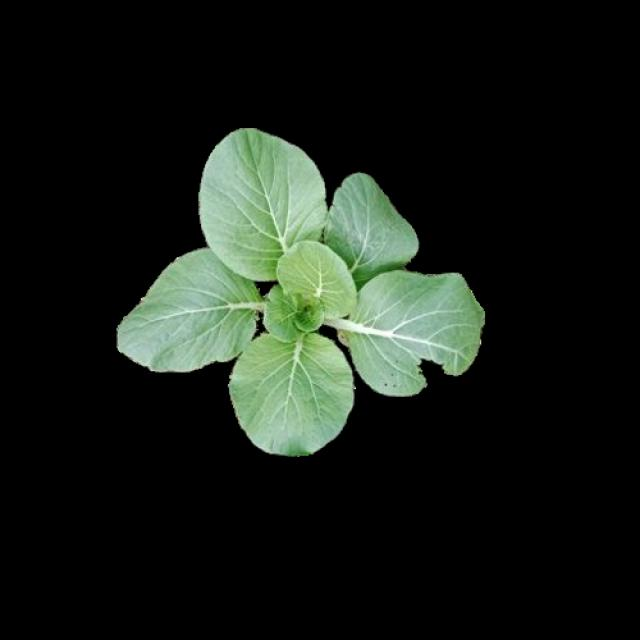not-mature: (116, 127, 488, 454)
unhealthy: (344, 270, 482, 397)
